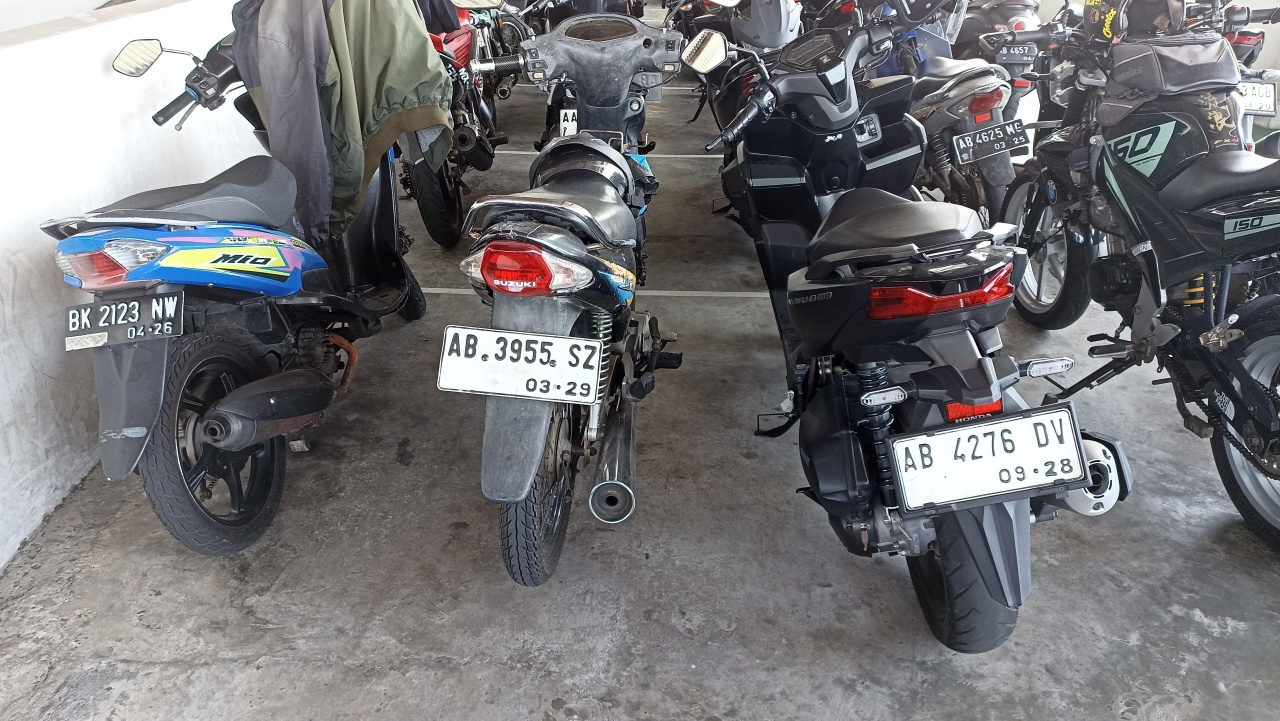plate: (890, 404, 1089, 516), (437, 325, 603, 405), (66, 291, 184, 351), (953, 118, 1030, 164)
